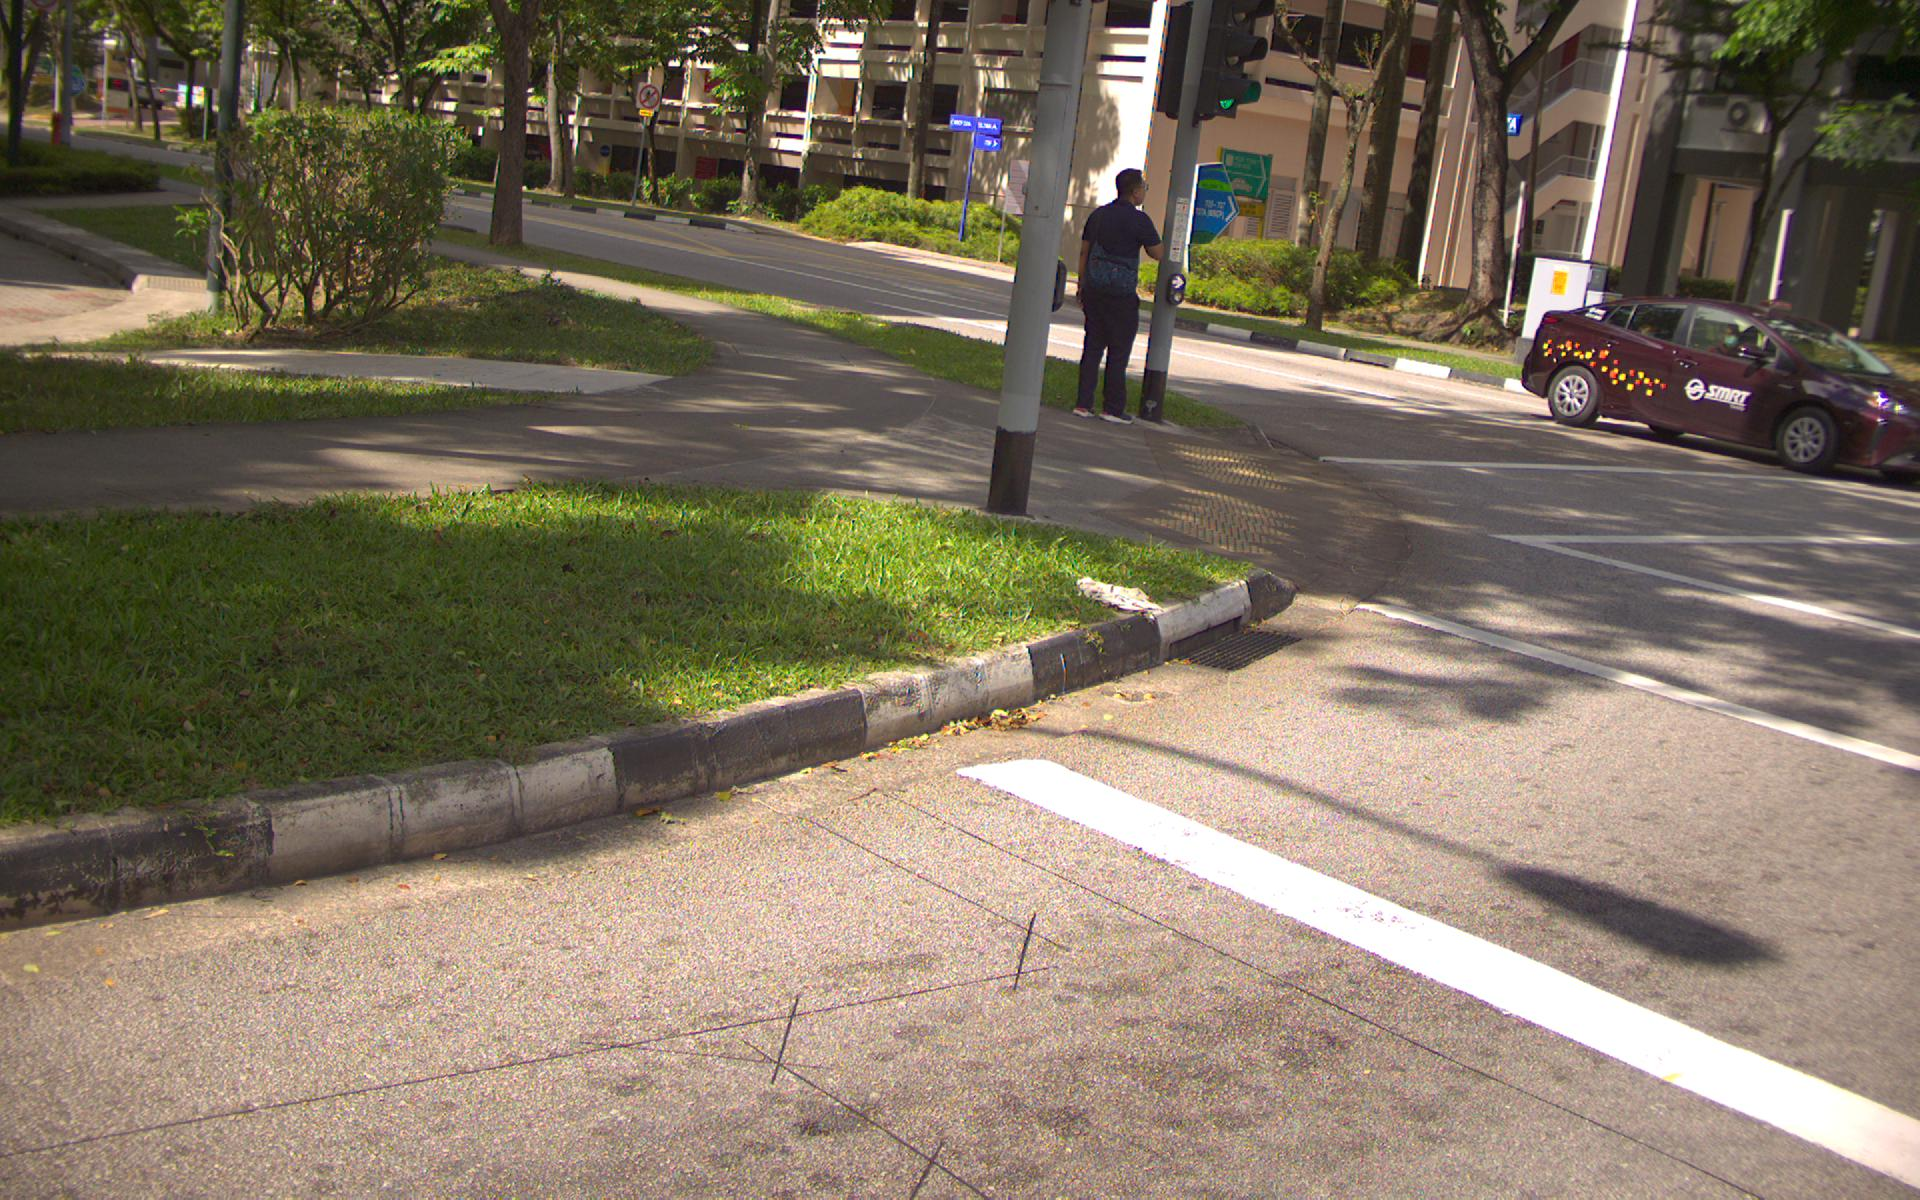curb_dic_low: (1151, 590, 1323, 690)
pathway_low: (733, 353, 910, 477), (10, 438, 301, 503), (370, 422, 695, 478)
road_turf_low: (4, 523, 643, 731), (670, 503, 980, 666), (10, 358, 164, 434), (429, 282, 571, 348), (153, 207, 254, 253)
